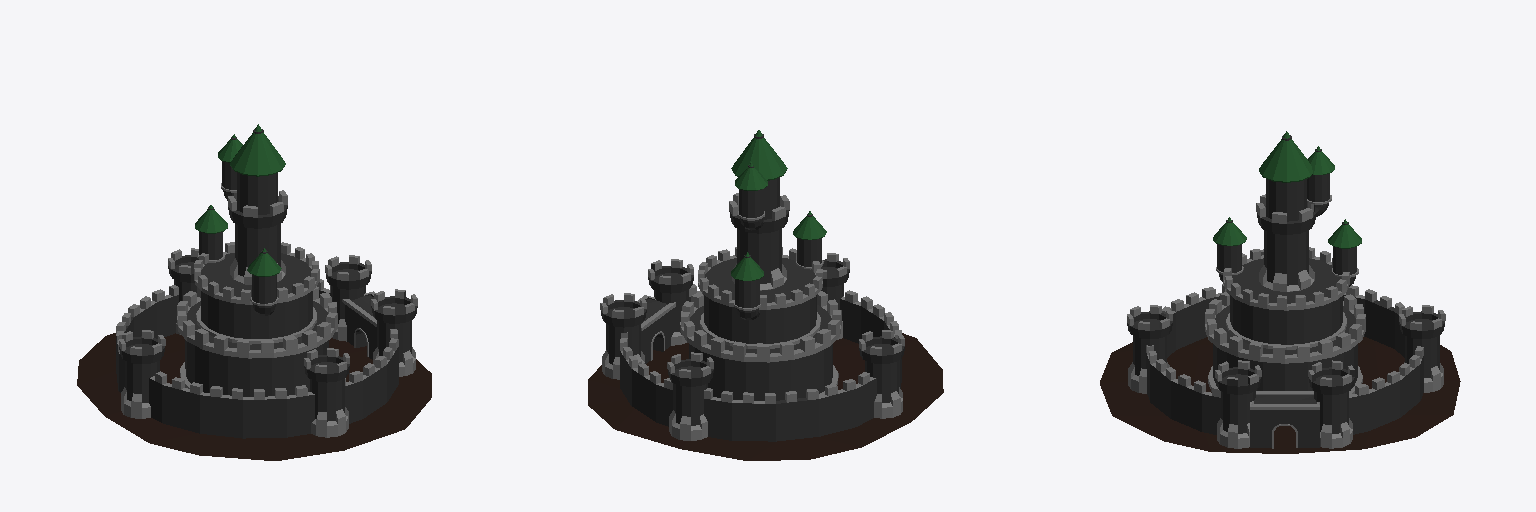
File: SM_Fortress.obj
3 views of the same model, side by side, from view 1: azimuth 30°, elevation 25°; view 2: azimuth 150°, elevation 25°; view 3: azimuth 270°, elevation 25° (orthographic).
Parts seen in each view (by area): view 1: SM_Fortress:SM_Fortress; view 2: SM_Fortress:SM_Fortress; view 3: SM_Fortress:SM_Fortress.
Part boxes in pixels (left/top/right/bottom): SM_Fortress:SM_Fortress: left=77, top=124, right=431, bottom=460; SM_Fortress:SM_Fortress: left=588, top=130, right=943, bottom=460; SM_Fortress:SM_Fortress: left=1100, top=131, right=1460, bottom=453.
Size of the model in its own units: 122 by 101 by 129.